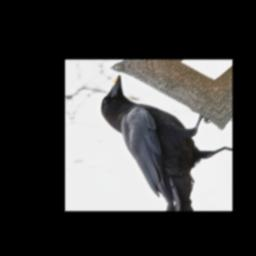Crow: (96, 67, 232, 208)
